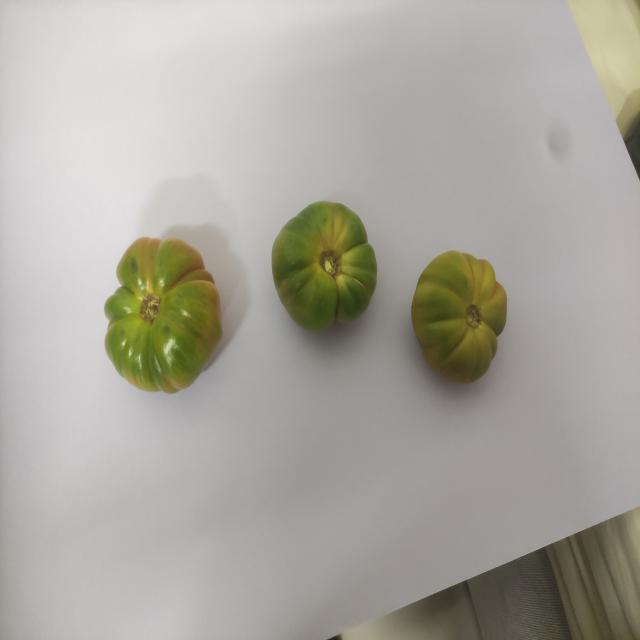yesil: (90, 220, 231, 398), (249, 192, 392, 346), (411, 225, 516, 393)
